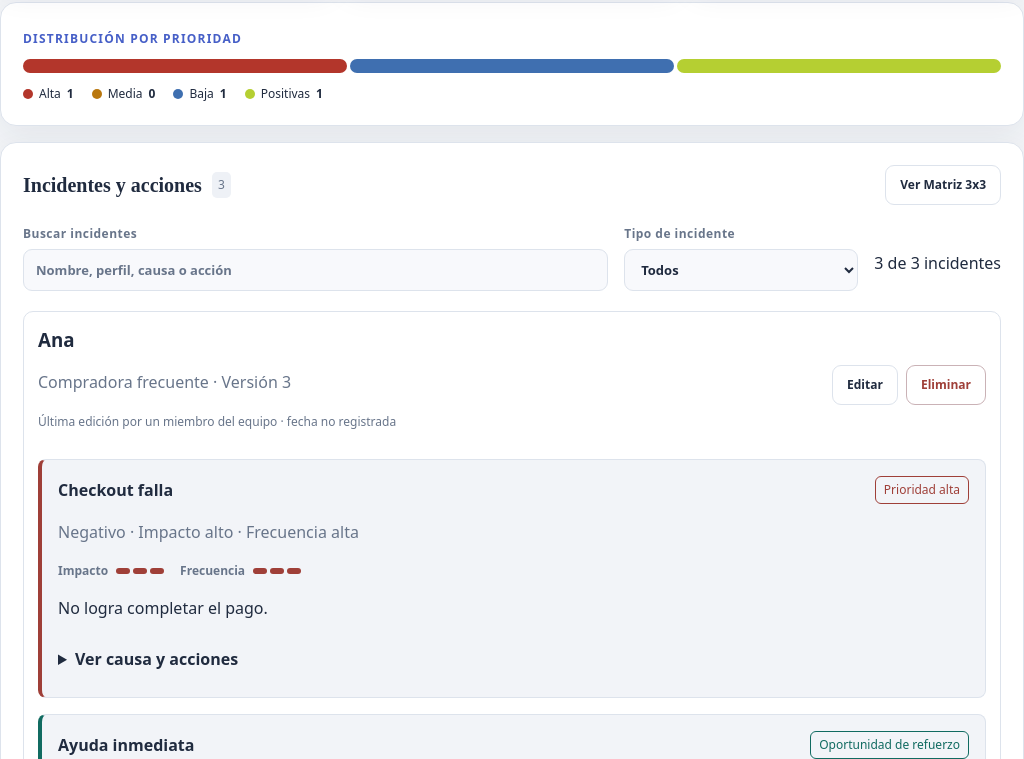
Scenario: Momentos críticos › bloquea el envío mientras adquiere el permiso y después de un conflicto 409
(page scrolled)
Click the button "Editar" at point(865, 385), box [832,365,898,405]
(page scrolled)
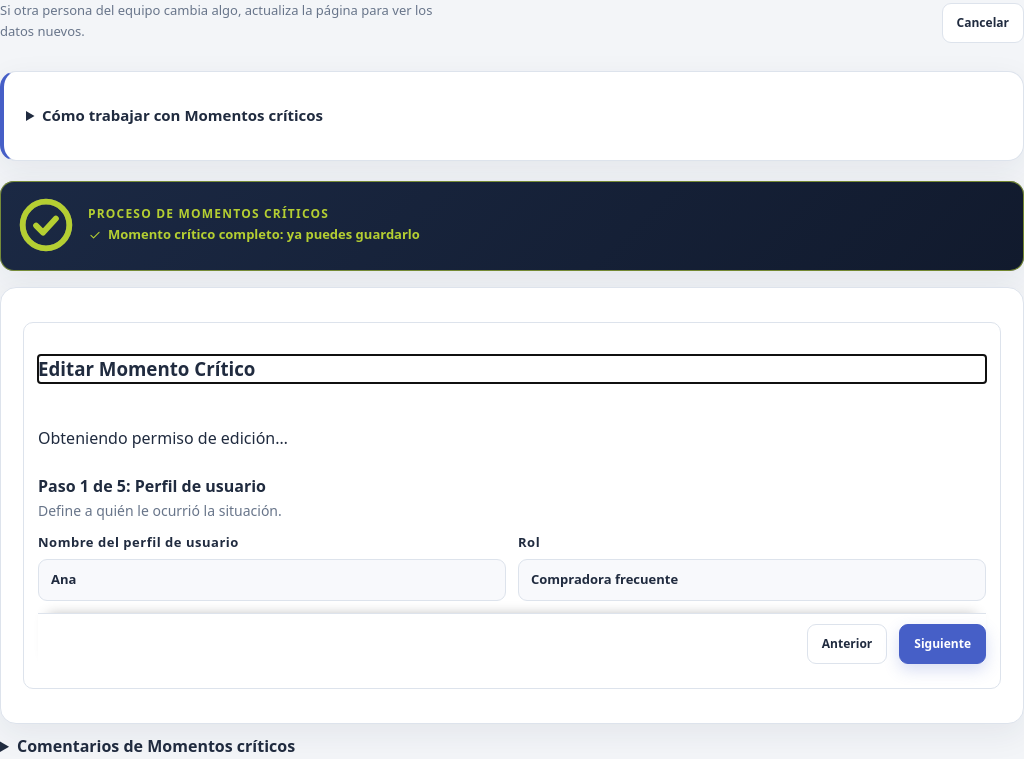
Expected: the field labelled "Nombre del perfil de usuario" is disabled, [38,559,506,601]
Submit the form named "Nombre del perfil de usuario", box [23,322,1001,689]
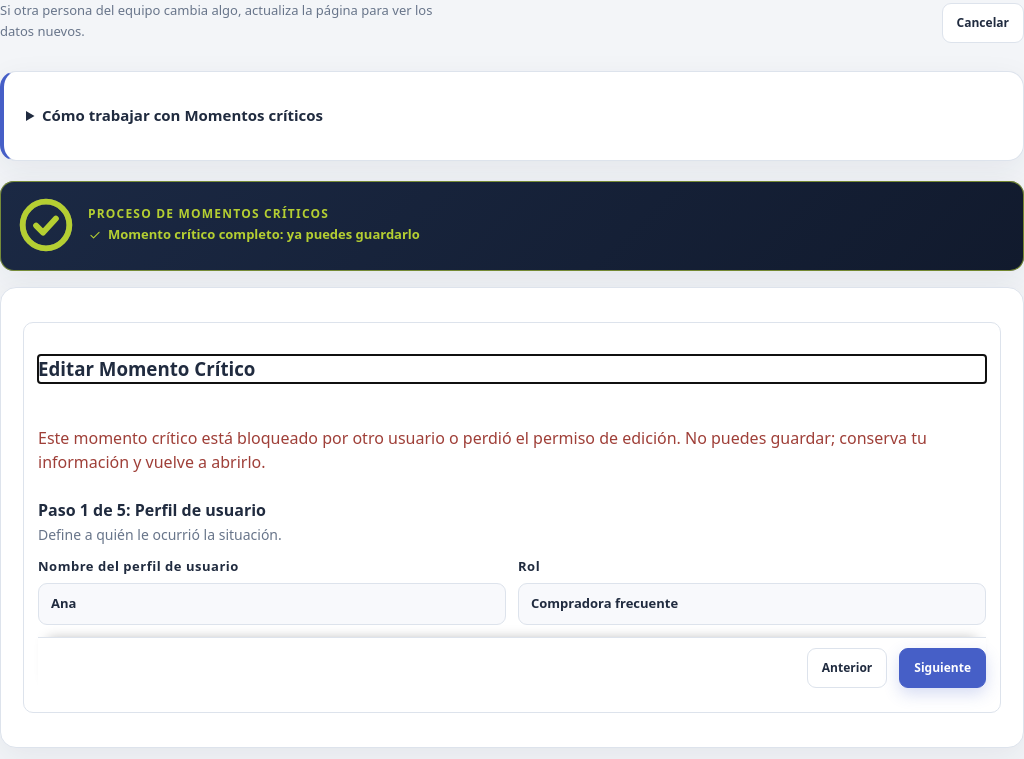
Expected: the field labelled "Nombre del perfil de usuario" is disabled, [38,583,506,625]
Now the text "está bloqueado por otro usuario" is shown, box [38,427,685,449]
